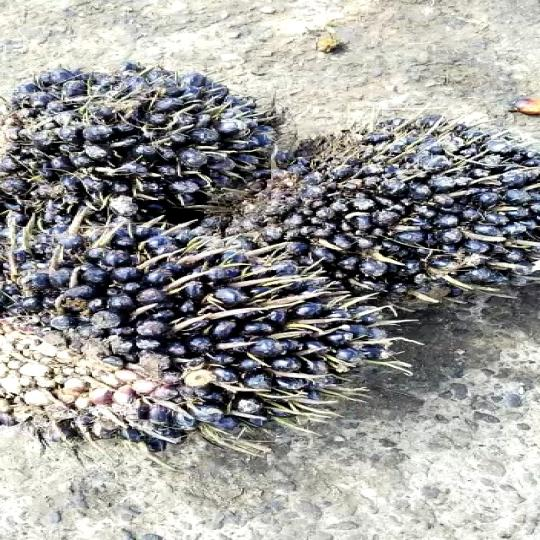mentah: (0, 220, 405, 454), (246, 110, 540, 300), (0, 56, 271, 236)
